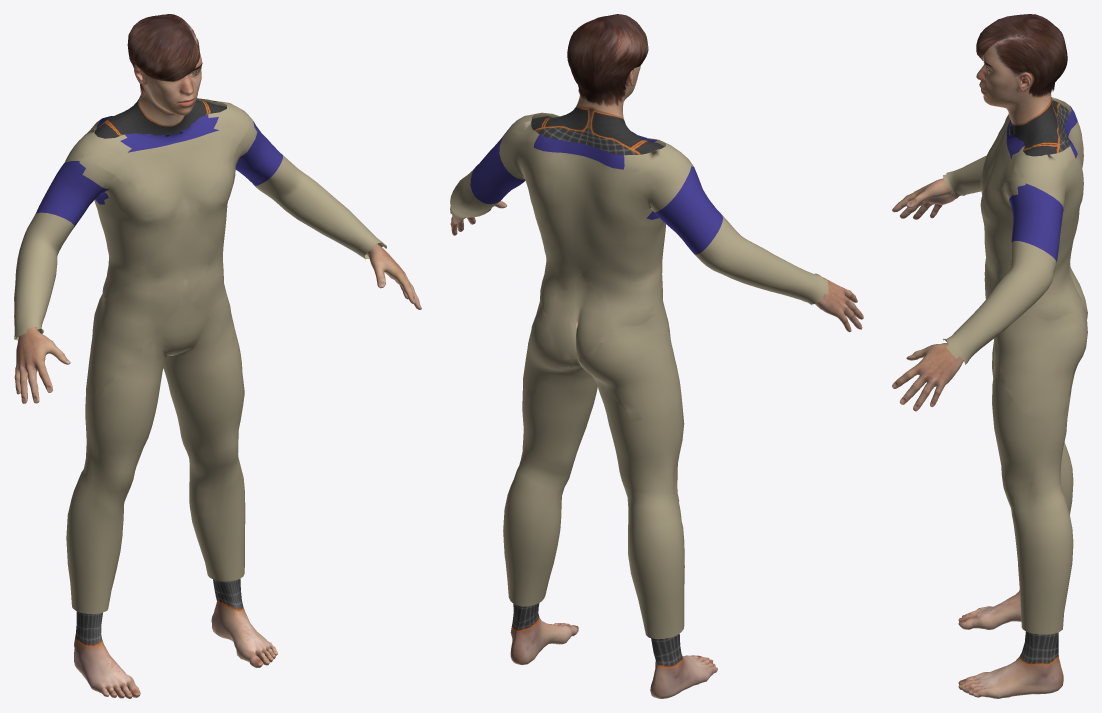
Rendered from crew_RIGEL.glb.
3 views of the same model, side by side, from view 1: azimuth 30°, elevation 25°; view 2: azimuth 150°, elevation 25°; view 3: azimuth 270°, elevation 25° (orthographic). The views are drawn at different scales.
Parts seen in each view (by area): view 1: RIGEL_uniform, RIGEL_skin, RIGEL_short03; view 2: RIGEL_uniform, RIGEL_skin, RIGEL_short03; view 3: RIGEL_uniform, RIGEL_skin, RIGEL_short03.
Part boxes in pixels (bbox=[...]): RIGEL_uniform: bbox=[14, 98, 386, 614]; RIGEL_skin: bbox=[14, 44, 421, 698]; RIGEL_short03: bbox=[127, 14, 200, 96]; RIGEL_uniform: bbox=[450, 112, 828, 638]; RIGEL_skin: bbox=[450, 66, 863, 698]; RIGEL_short03: bbox=[567, 14, 648, 106]; RIGEL_uniform: bbox=[943, 97, 1087, 634]; RIGEL_skin: bbox=[892, 38, 1070, 698]; RIGEL_short03: bbox=[976, 14, 1067, 97].
Bounding box in the file's own units: 1.17 × 1.8 × 0.5004.
16 materials, 11 textured.
